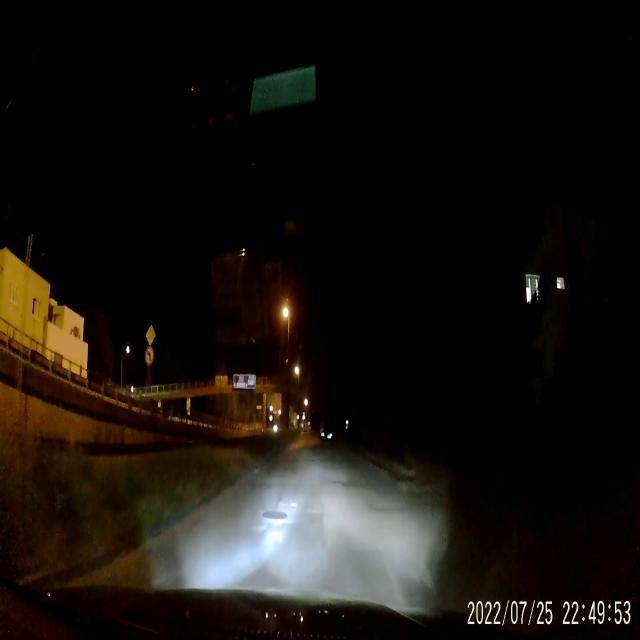Manhole: (262, 506, 288, 528)
